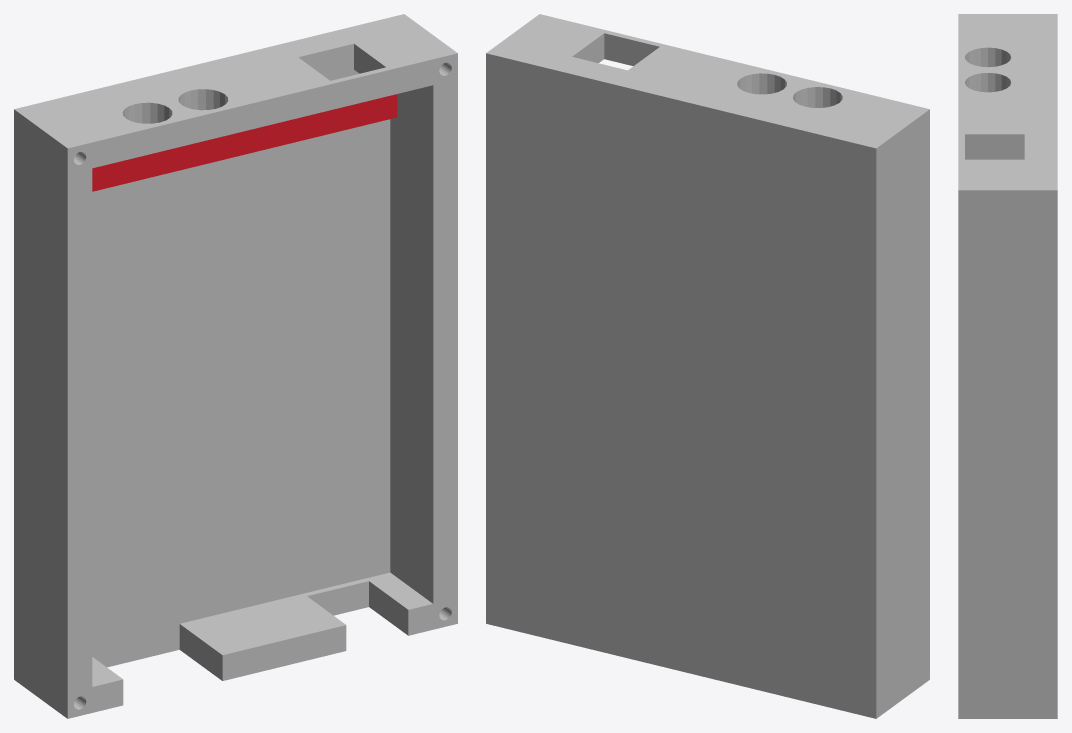
Rendered from lower-half.obj.
The picture shows the model from 3 angles, left to right: view 1: azimuth 30°, elevation 25°; view 2: azimuth 150°, elevation 25°; view 3: azimuth 270°, elevation 25°; orthographic projection. The views are drawn at different scales.
Parts seen in each view (by area): view 1: group_0_12568524, group_0_16311991, group_0_15277357; view 2: group_0_12568524, group_0_16311991; view 3: group_0_16311991.
Part boxes in pixels (bbox=[...]): group_0_12568524: bbox=[92, 69, 390, 644]; group_0_16311991: bbox=[14, 14, 457, 718]; group_0_15277357: bbox=[92, 94, 397, 191]; group_0_12568524: bbox=[510, 85, 851, 686]; group_0_16311991: bbox=[486, 14, 929, 718]; group_0_16311991: bbox=[958, 14, 1057, 718].
Size of the model in its own units: 63 by 88 by 15.
